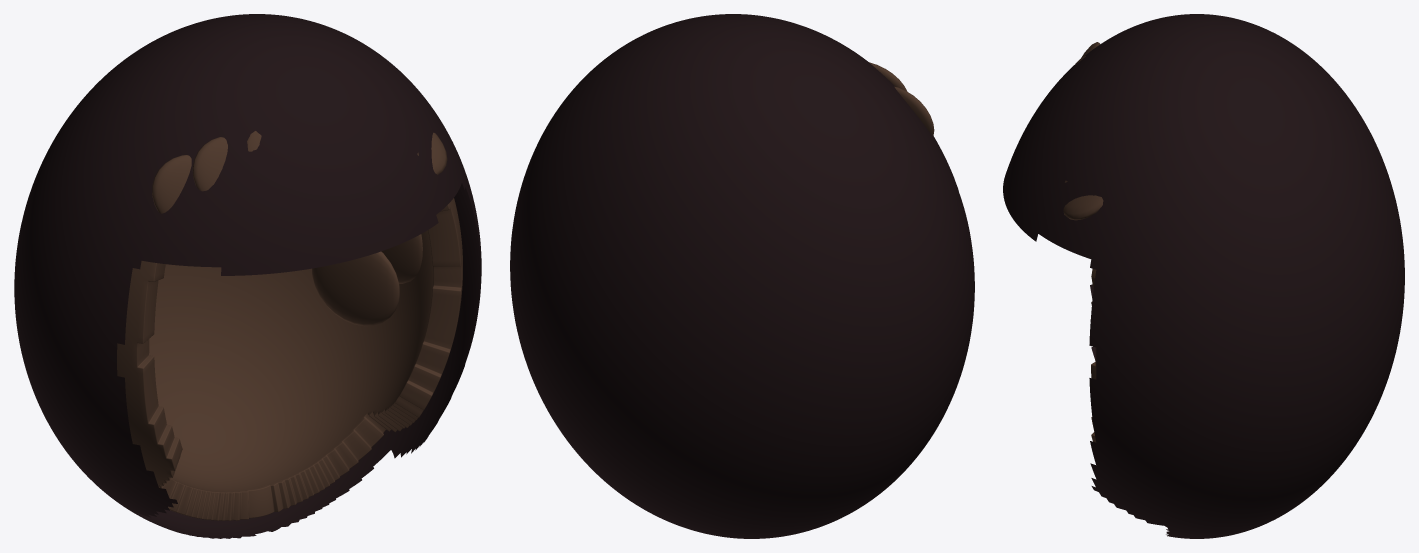
The model's file is hair-bob.glb.
3 renders of one model, left to right at view 1: azimuth 30°, elevation 25°; view 2: azimuth 150°, elevation 25°; view 3: azimuth 270°, elevation 25°, orthographic.
Parts seen in each view (by area): view 1: Hair ink, Hair bob mass, Hair curtain.005, Hair bang 0, Hair bang 1, Hair curtain.004; view 2: Hair ink, Hair bang 0; view 3: Hair ink, Hair bang 5.
Boxes of the visible parts, x1,y1,x2,y2 form: Hair ink: (14,14,481,538); Hair bob mass: (117,198,462,520); Hair curtain.005: (312,251,399,326); Hair bang 0: (152,155,191,213); Hair bang 1: (192,137,227,191); Hair curtain.004: (381,234,422,283); Hair ink: (510,14,974,538); Hair bang 0: (894,86,934,136); Hair ink: (1003,14,1404,538); Hair bang 5: (1063,195,1103,220).
Bounding box in the file's own units: 0.568 × 0.644 × 0.4831.
